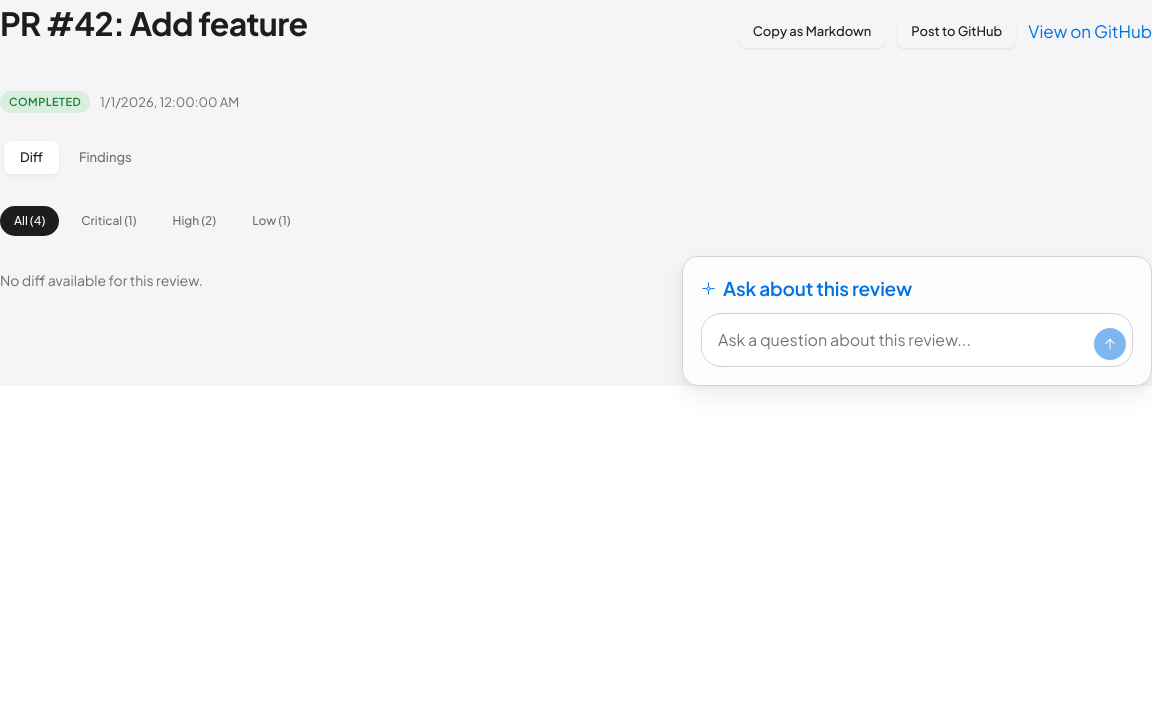
ReviewDetail severity filter › filters the findings list down to the selected severity
Click the button "Findings". click: (105, 158)
box: [63,141,148,174]
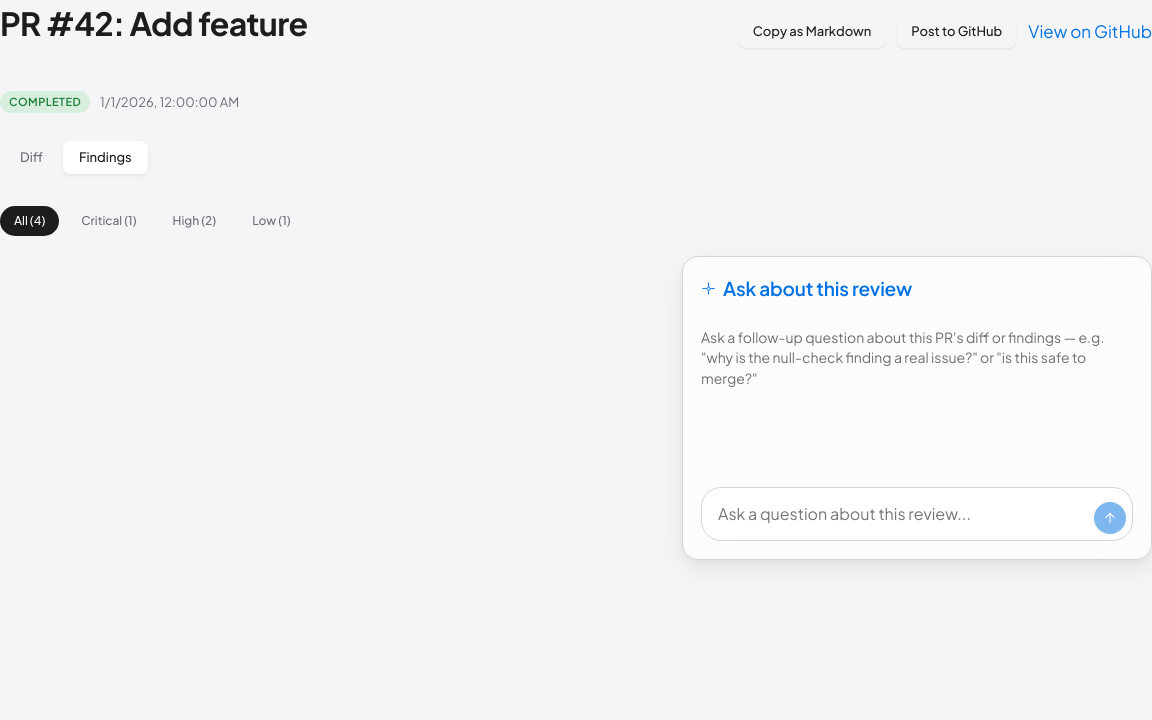
Click the button "high (2)". click: (194, 221)
box: [159,206,230,236]
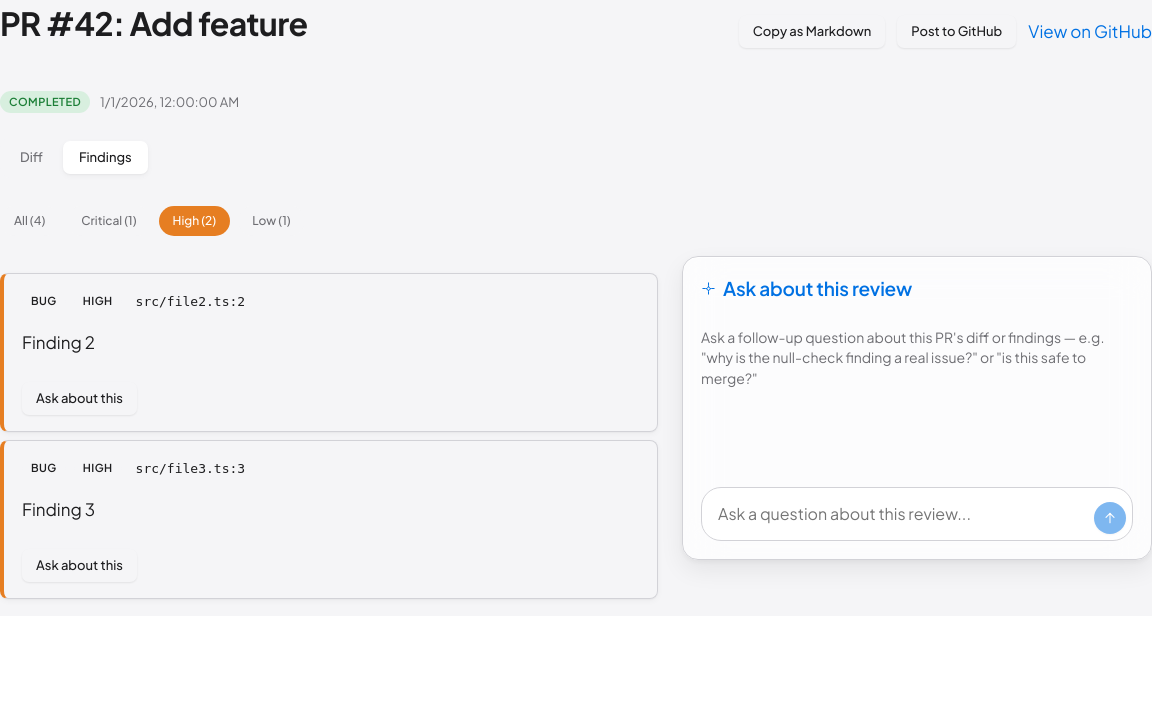
Result: the text "Finding 2" is shown at [22,331,95,353]
Result: the text "Finding 3" is shown at [22,498,95,520]
